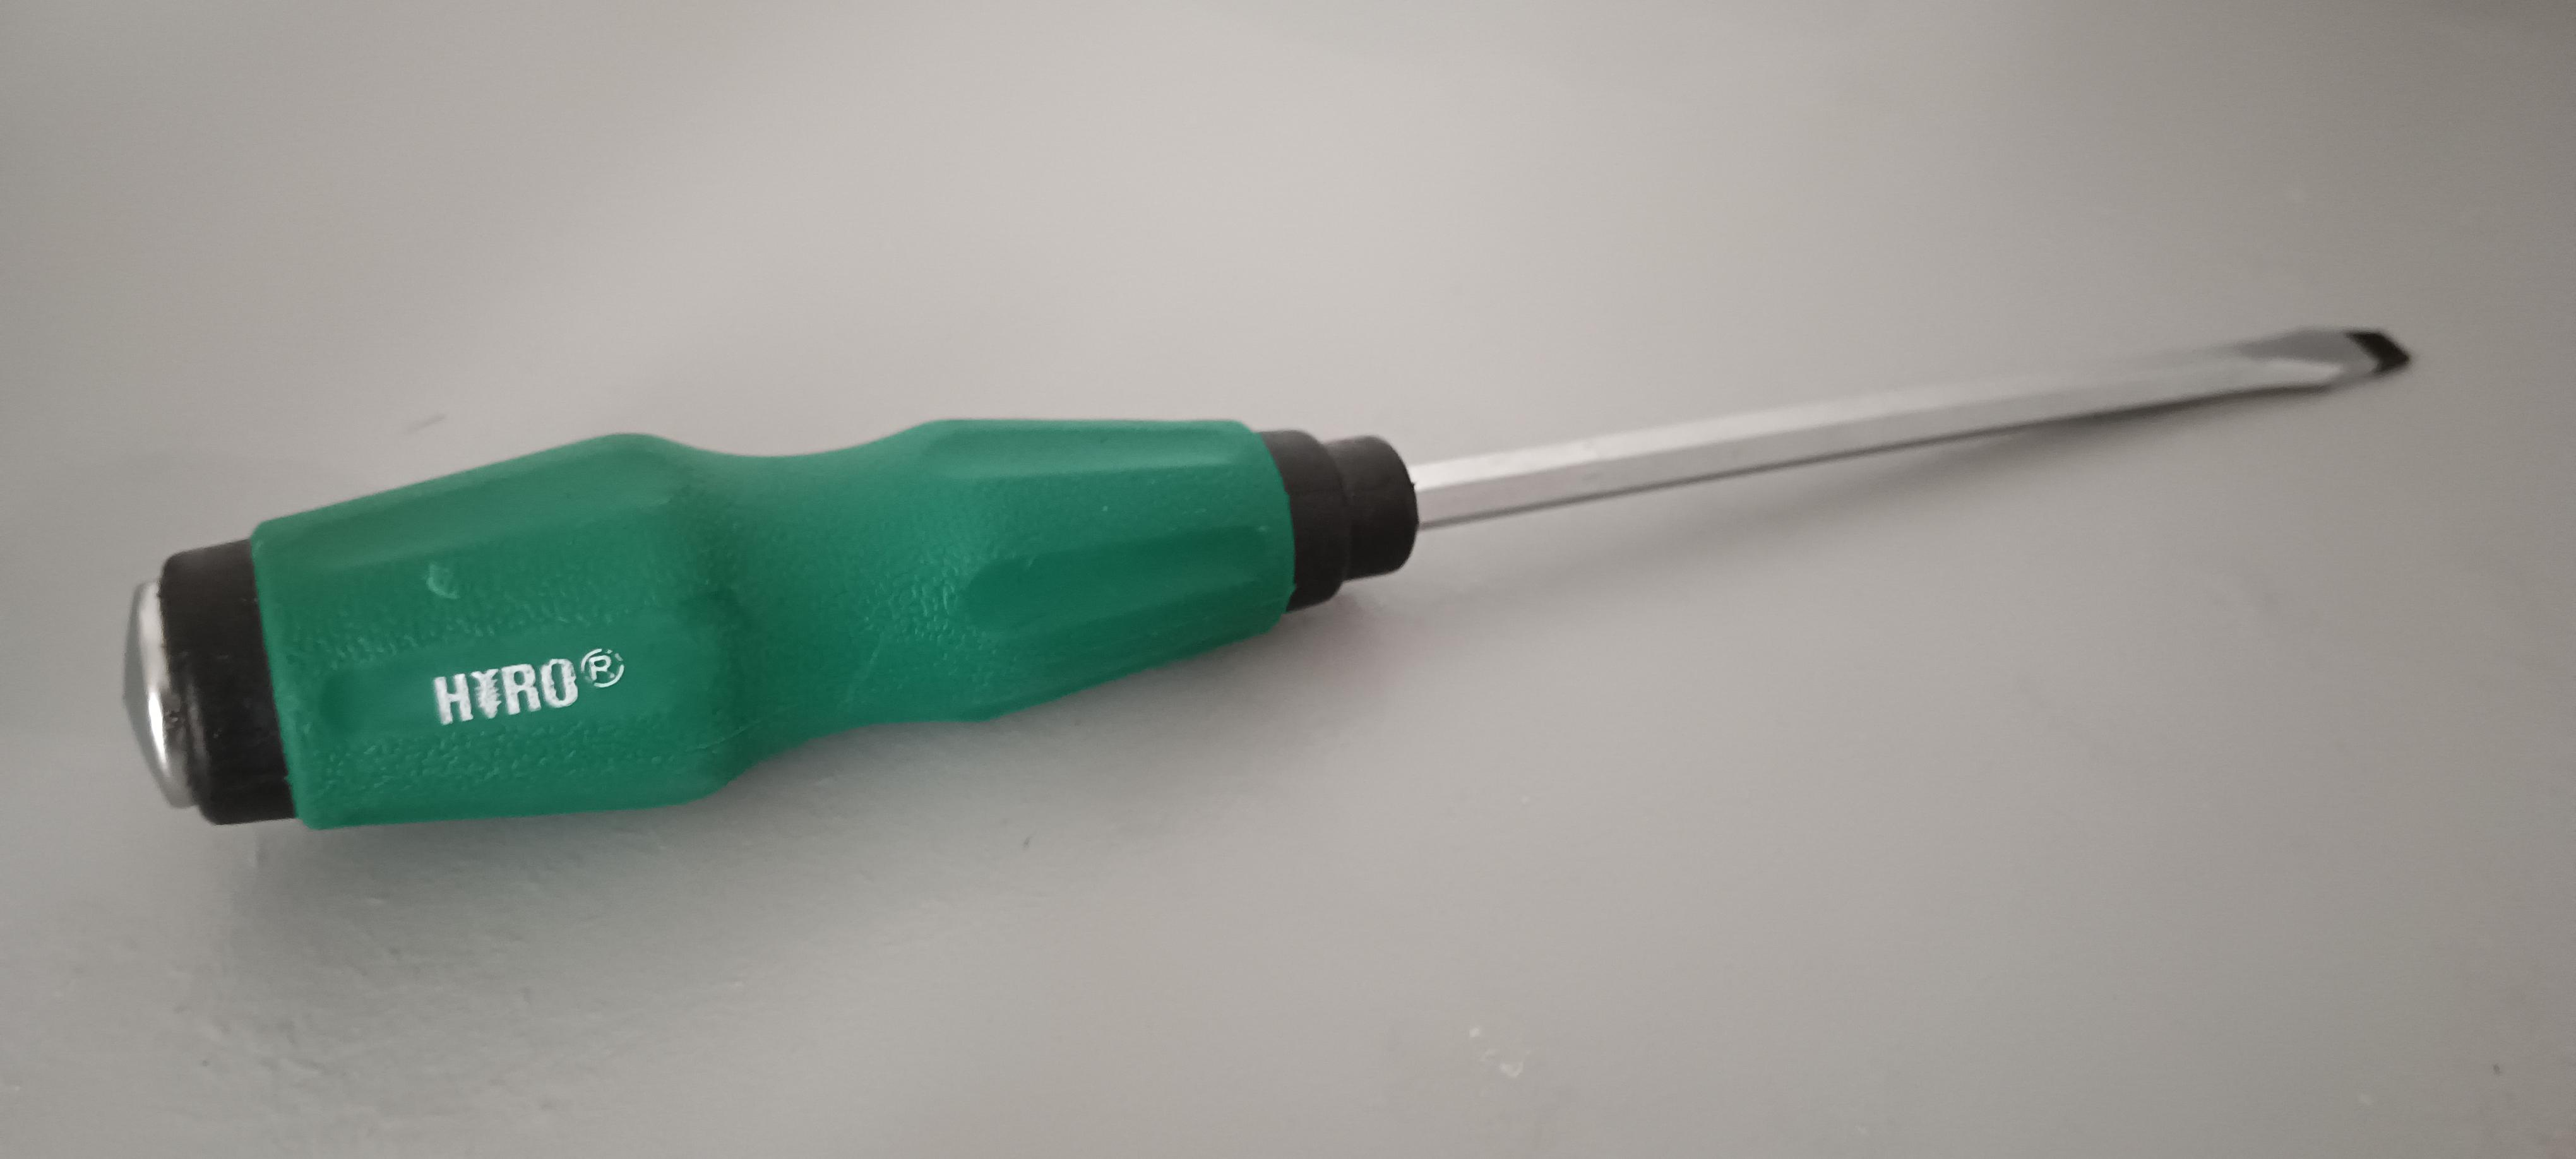Screwdriver: (66, 253, 2463, 896)
